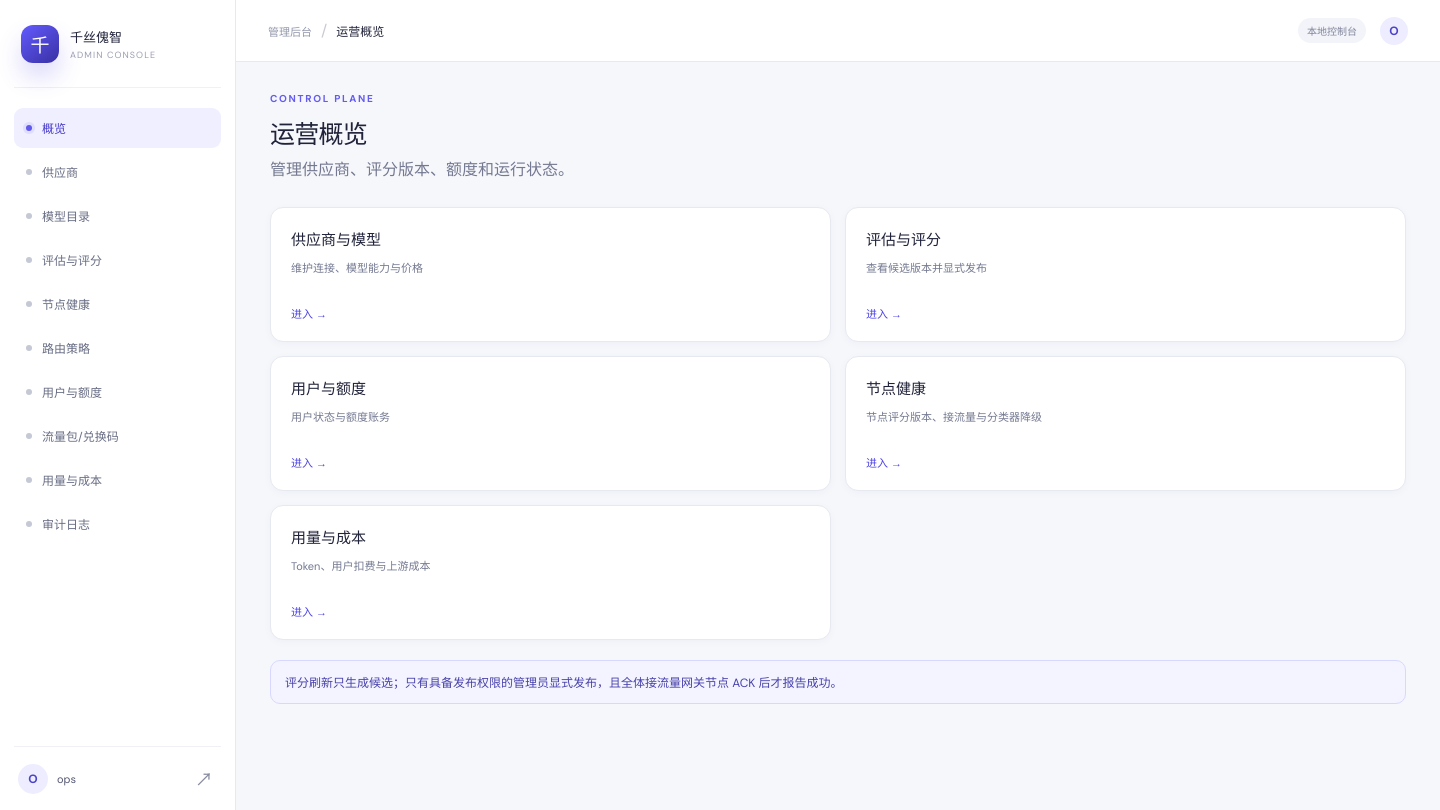
admin evaluation and cost pages › shows upstream cost and user charge separately without prompts or secrets
Click the button "用量与成本" at (118, 480), box [14,460,221,500]
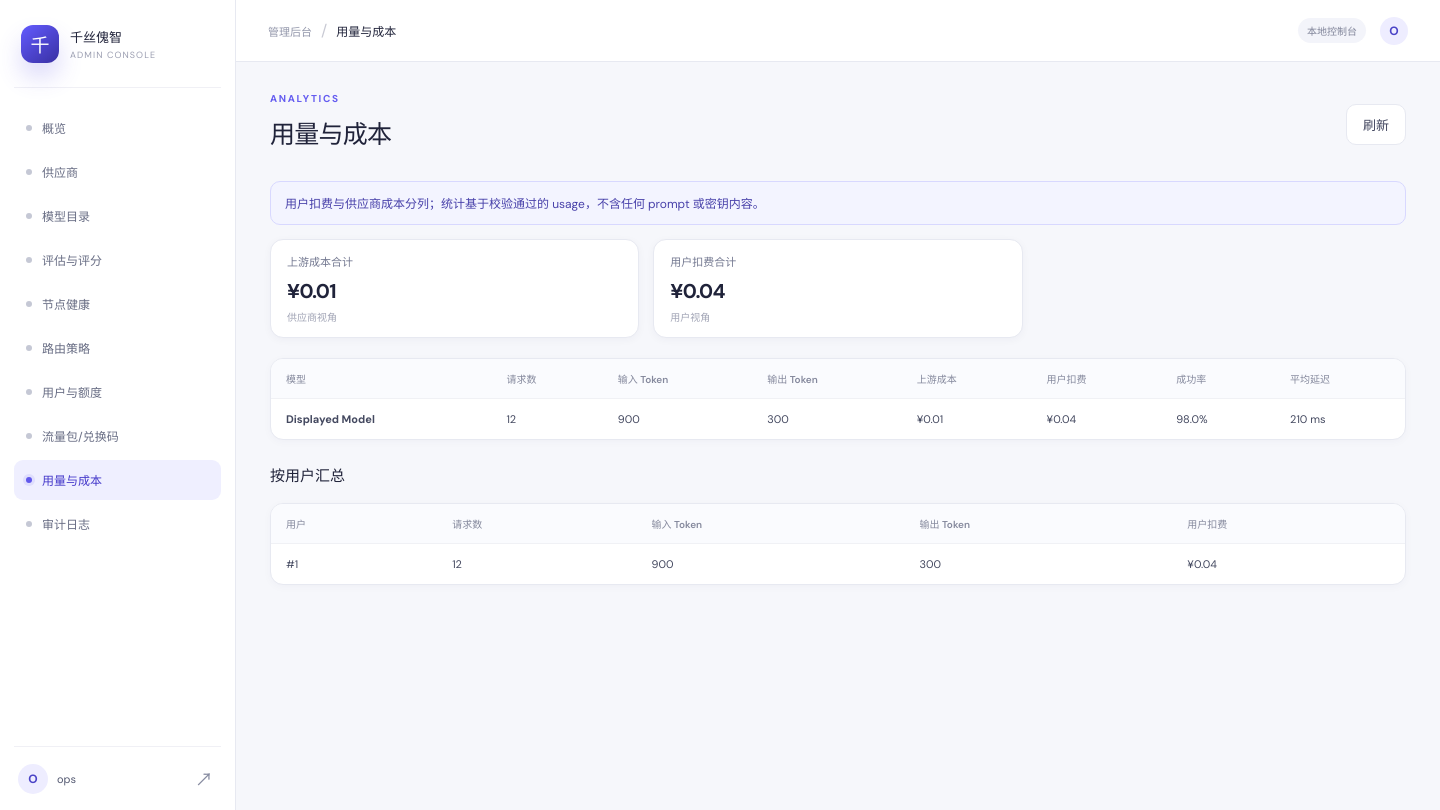
Check: the text "上游成本合计" is shown, box [287,255,353,269]
Check: the text "用户扣费合计" is shown, box [670,255,736,269]
Click the button "审计日志" at (118, 524), box [14,504,221,544]
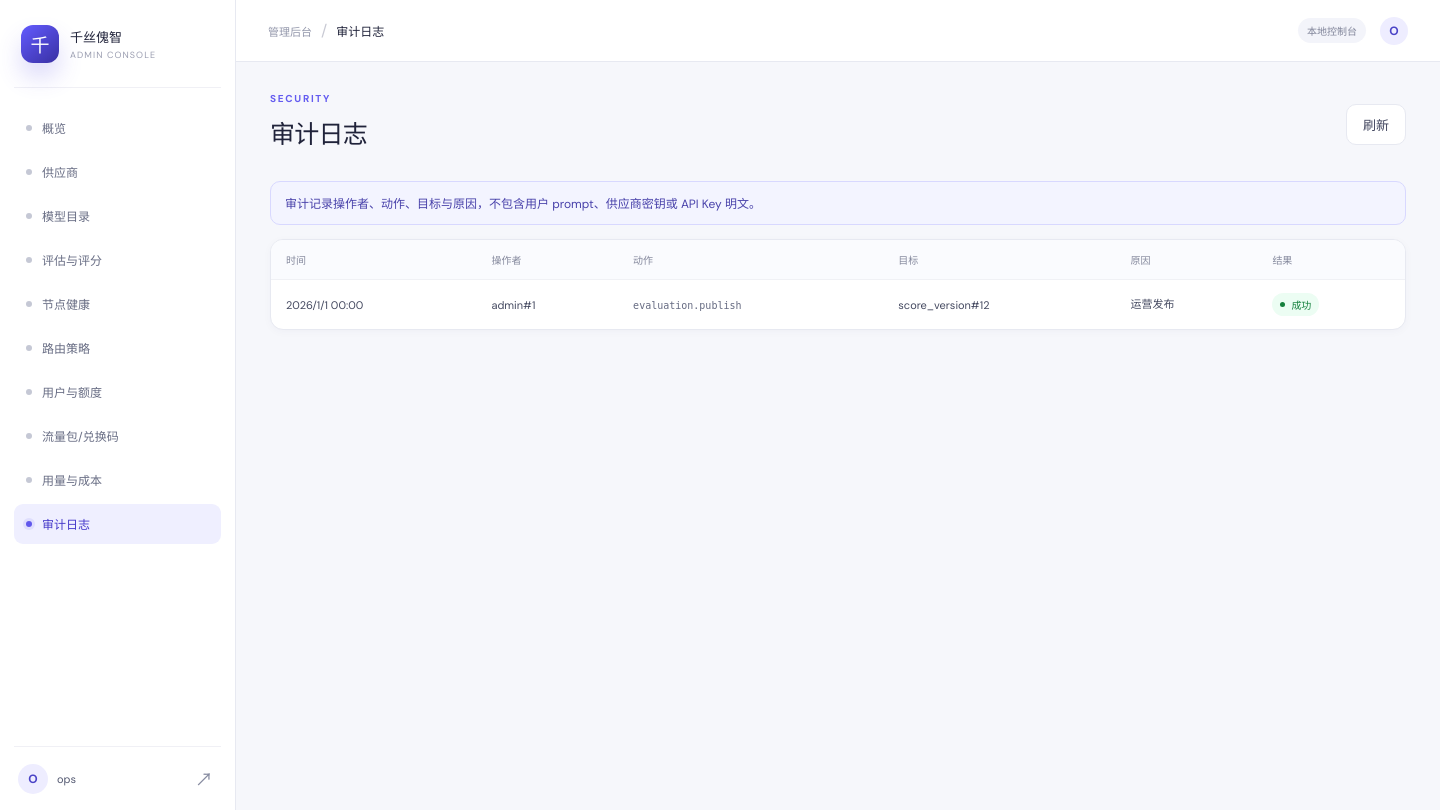
Check: the text "evaluation.publish" is shown, box [633,300,742,310]
Check: the text "运营发布" is shown, box [1116,280,1257,329]
